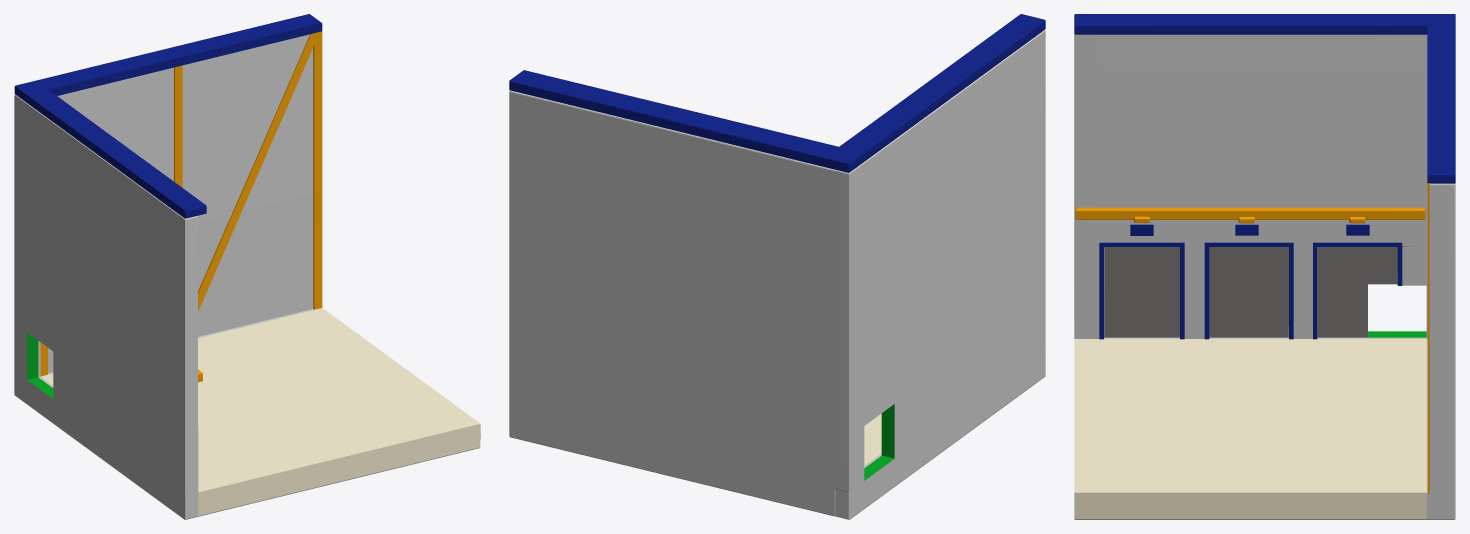
The model's file is cube_sta1.fbx.
The picture shows the model from 3 angles, left to right: view 1: azimuth 30°, elevation 25°; view 2: azimuth 150°, elevation 25°; view 3: azimuth 270°, elevation 25°; orthographic projection. The views are drawn at different scales.
Parts seen in each view (by area): view 1: polySurface53; view 2: polySurface53; view 3: polySurface53.
Part boxes in pixels (<box>): polySurface53: <box>14,14,480,519</box>; polySurface53: <box>509,14,1045,519</box>; polySurface53: <box>1074,14,1455,519</box>.
Size of the model in its own units: 6.49 by 6.5 by 6.5.
